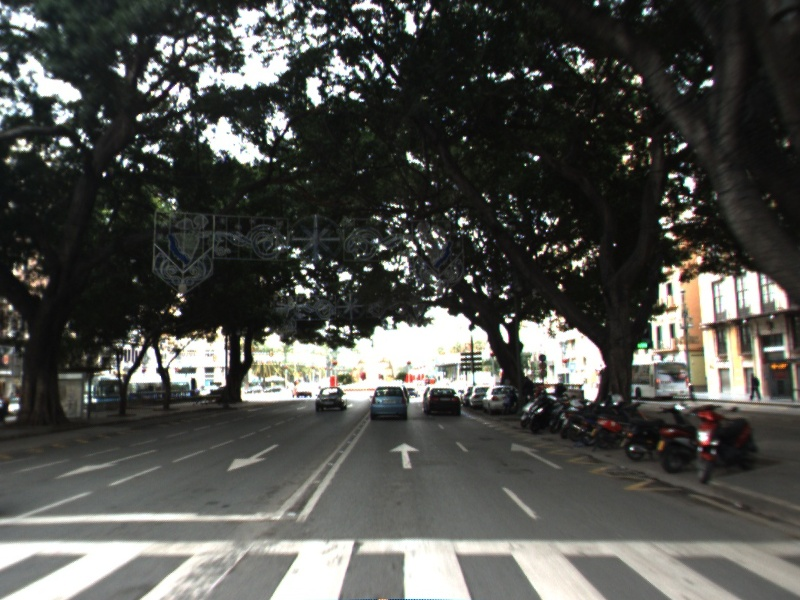STRAIGHT: (508, 440, 566, 471), (386, 441, 422, 471)
